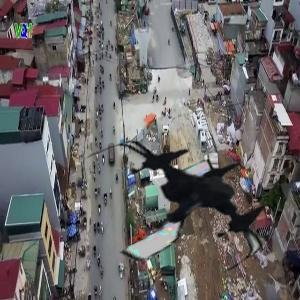drone: (85, 116, 267, 298)
